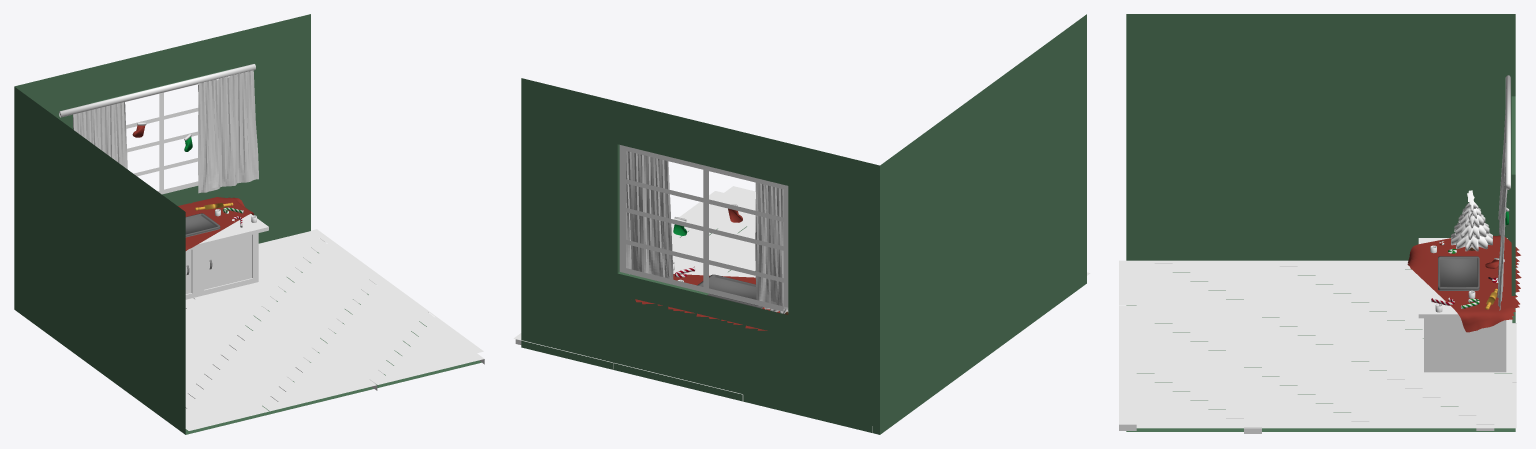
3 renders of one model, left to right at view 1: azimuth 30°, elevation 25°; view 2: azimuth 150°, elevation 25°; view 3: azimuth 270°, elevation 25°, orthographic. The views are drawn at different scales.
Parts seen in each view (by area): view 1: Cube.008, Cube.017, Plane.015, Cube.009, Plane.014, Plane, Cylinder.029, Cube.010, Cube.001, Cube.018, Plane.008; view 2: Cube.008, Cube.017, Plane.015, Cube.018, Plane.014, Cube.001, Plane.008, Plane; view 3: Cube.008, Cube.017, Plane, Cube.009, Plane.008, Cube.010, Cylinder.029, Plane.015, Cylinder.005, Cylinder.006, Plane.014.
Part boxes in pixels (x1,y1,x2,y2): Cube.008: (14,14,481,434); Cube.017: (185,229,484,430); Plane.015: (198,70,258,193); Cube.009: (185,233,258,299); Plane.014: (73,102,127,169); Plane: (178,197,253,250); Cylinder.029: (59,64,255,117); Cube.010: (187,214,268,250); Cube.001: (126,108,198,176); Cube.018: (125,84,198,194); Plane.008: (185,213,220,237); Cube.008: (521,14,1086,434); Cube.017: (513,186,1090,432); Plane.015: (626,151,673,279); Cube.018: (619,145,788,311); Plane.014: (755,182,788,309); Cube.001: (626,179,783,282); Plane.008: (697,274,763,308); Plane: (635,274,779,330); Cube.008: (1126,14,1515,431); Cube.017: (1119,260,1516,433); Plane: (1407,235,1521,332); Cube.009: (1424,318,1506,372); Plane.008: (1438,256,1479,290); Cube.010: (1418,238,1507,318); Cylinder.029: (1505,75,1510,189); Plane.015: (1497,158,1507,310); Cylinder.005: (1451,233,1492,251); Cylinder.006: (1454,223,1489,239); Plane.014: (1498,110,1505,234).
Bounding box in the file's own units: 120 × 84.47 × 122.
